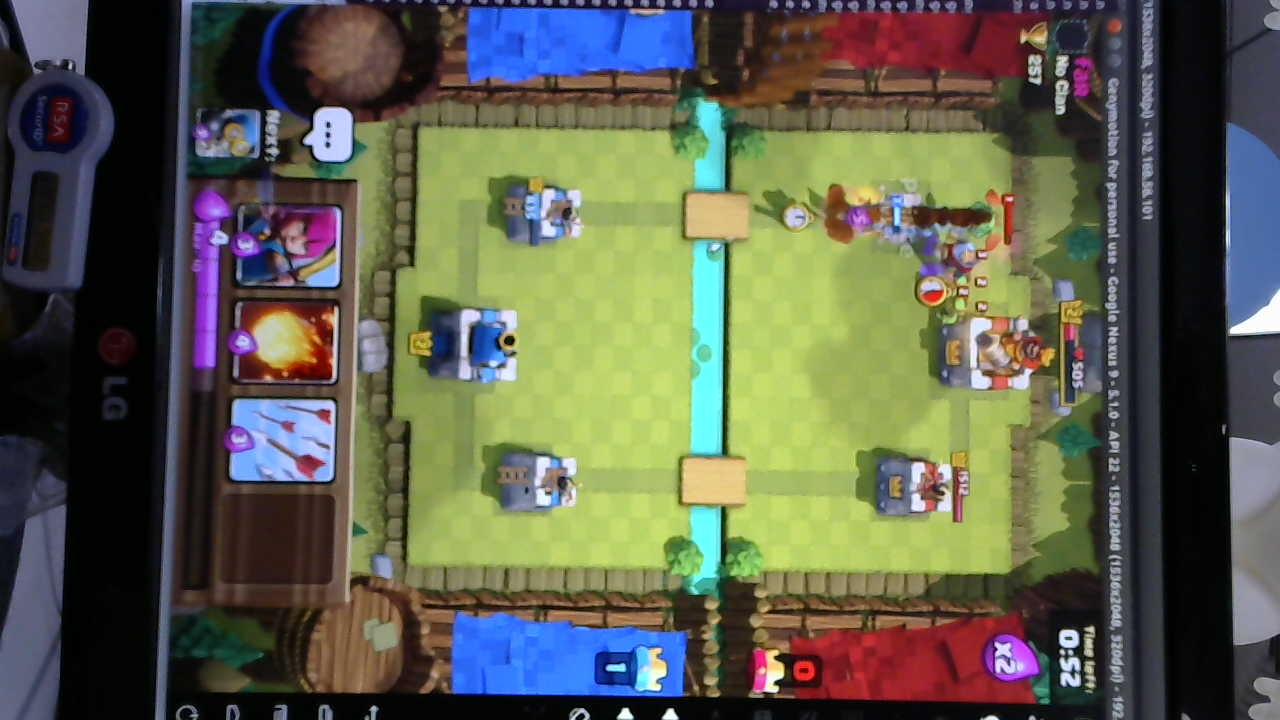arena: (497, 447, 584, 517), (505, 179, 587, 245)
dragon: (964, 187, 1002, 253)
earena: (872, 452, 954, 522)
eking: (935, 314, 1048, 396)
king: (430, 303, 524, 382)
knight: (940, 232, 982, 281)
speargoblins: (935, 269, 996, 331)
